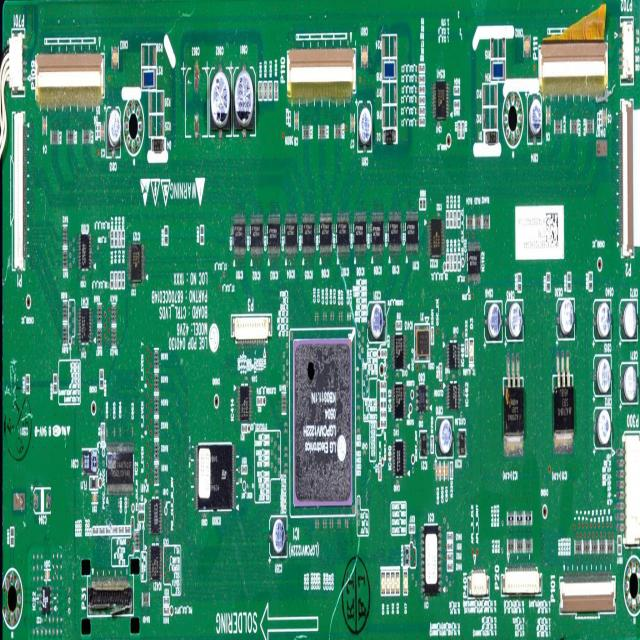Capacitor: (234, 68, 255, 132), (211, 64, 231, 130), (108, 106, 122, 157), (436, 417, 453, 459), (528, 95, 543, 142), (486, 303, 504, 342), (558, 299, 576, 337), (358, 102, 372, 150), (595, 299, 611, 340), (622, 300, 637, 340), (368, 303, 384, 340), (596, 409, 612, 445), (622, 364, 637, 401), (271, 520, 287, 554), (597, 356, 611, 393), (509, 304, 523, 338), (33, 488, 51, 512), (82, 450, 99, 474), (361, 41, 368, 68), (112, 44, 119, 68), (524, 36, 530, 56), (546, 104, 551, 126), (294, 110, 298, 132), (43, 117, 47, 137), (91, 492, 98, 503), (603, 110, 607, 129), (444, 462, 448, 481), (436, 463, 440, 480), (351, 115, 354, 135), (101, 124, 104, 142), (441, 463, 444, 481), (44, 570, 50, 578), (356, 426, 361, 434), (356, 414, 361, 421), (105, 427, 108, 438), (284, 461, 288, 469), (314, 312, 317, 322), (356, 393, 361, 399), (131, 426, 134, 436), (118, 426, 121, 436), (117, 496, 120, 506), (322, 518, 325, 528), (329, 518, 332, 527), (341, 309, 343, 321), (284, 469, 288, 475), (113, 426, 115, 437), (338, 311, 340, 321), (318, 310, 320, 320), (356, 404, 360, 409), (284, 429, 288, 434), (284, 447, 288, 452), (284, 453, 288, 458), (127, 498, 129, 508), (315, 518, 317, 528), (356, 379, 359, 385), (363, 450, 366, 456), (337, 518, 339, 527), (339, 518, 341, 527), (345, 518, 347, 527), (325, 518, 327, 527), (318, 519, 320, 528), (330, 310, 332, 318), (325, 312, 327, 320), (322, 312, 324, 320), (284, 422, 288, 426), (332, 519, 334, 527), (332, 312, 334, 318), (347, 519, 348, 528)
Connector: (285, 46, 358, 102), (539, 39, 608, 98), (34, 52, 104, 105), (619, 96, 640, 262), (559, 568, 617, 619), (616, 432, 640, 548), (12, 111, 29, 272), (88, 574, 133, 615), (502, 563, 543, 598), (619, 12, 635, 86), (8, 30, 25, 98), (232, 314, 271, 343), (469, 570, 490, 597)
IC: (290, 330, 356, 517), (195, 440, 235, 512), (501, 351, 525, 458), (552, 350, 576, 456), (420, 521, 442, 598), (106, 442, 134, 496), (127, 241, 145, 284), (404, 209, 420, 256), (432, 79, 449, 123), (283, 211, 298, 257), (391, 438, 407, 481), (387, 210, 402, 255), (370, 212, 386, 254), (428, 217, 444, 257), (302, 210, 316, 255), (232, 212, 247, 254), (77, 230, 92, 272), (148, 541, 163, 583), (391, 334, 407, 373), (319, 209, 333, 253), (467, 241, 481, 285), (78, 306, 93, 347), (250, 212, 264, 255), (267, 212, 281, 255), (392, 379, 406, 422), (237, 382, 252, 422), (354, 212, 368, 253), (148, 495, 163, 533), (445, 339, 462, 370), (336, 215, 349, 253), (38, 584, 54, 614), (447, 378, 461, 409), (414, 382, 428, 412), (419, 430, 429, 460), (457, 429, 466, 457)
Resistor Network: (382, 106, 398, 128), (482, 84, 497, 107), (382, 57, 398, 78), (382, 34, 397, 56), (141, 69, 157, 89), (482, 108, 498, 128), (382, 82, 397, 103), (491, 37, 505, 59), (491, 62, 505, 80), (25, 373, 30, 394), (517, 272, 521, 292), (567, 272, 571, 291), (264, 80, 268, 98), (381, 348, 387, 360), (99, 370, 103, 388), (53, 374, 57, 392), (10, 527, 14, 545), (618, 536, 622, 554), (114, 272, 118, 288), (588, 274, 592, 290), (450, 459, 453, 480), (200, 224, 203, 244), (93, 525, 99, 535), (259, 81, 262, 100), (269, 81, 272, 100), (431, 326, 434, 345), (101, 423, 104, 442), (111, 526, 118, 534), (419, 64, 425, 73), (275, 80, 278, 98), (165, 226, 168, 244), (110, 270, 113, 288), (122, 270, 125, 288), (547, 274, 550, 292), (114, 230, 117, 247), (448, 552, 453, 562), (105, 526, 112, 533), (454, 87, 460, 95), (454, 102, 460, 110), (118, 230, 121, 246), (396, 322, 402, 330), (256, 397, 262, 405), (380, 408, 386, 416), (242, 424, 248, 432), (242, 466, 248, 474), (409, 524, 415, 532), (124, 526, 130, 534), (447, 532, 453, 540), (447, 542, 453, 550), (447, 562, 453, 570), (163, 596, 169, 604), (381, 381, 386, 390), (163, 606, 169, 613), (420, 97, 426, 104), (420, 108, 426, 115), (118, 526, 124, 533), (99, 527, 105, 534), (419, 84, 424, 92), (440, 362, 442, 382), (381, 420, 386, 428), (419, 76, 425, 82), (431, 436, 433, 454), (458, 122, 460, 139), (111, 230, 113, 247), (122, 230, 124, 247), (118, 272, 120, 288), (420, 118, 425, 124), (462, 123, 464, 138), (454, 212, 456, 226)
